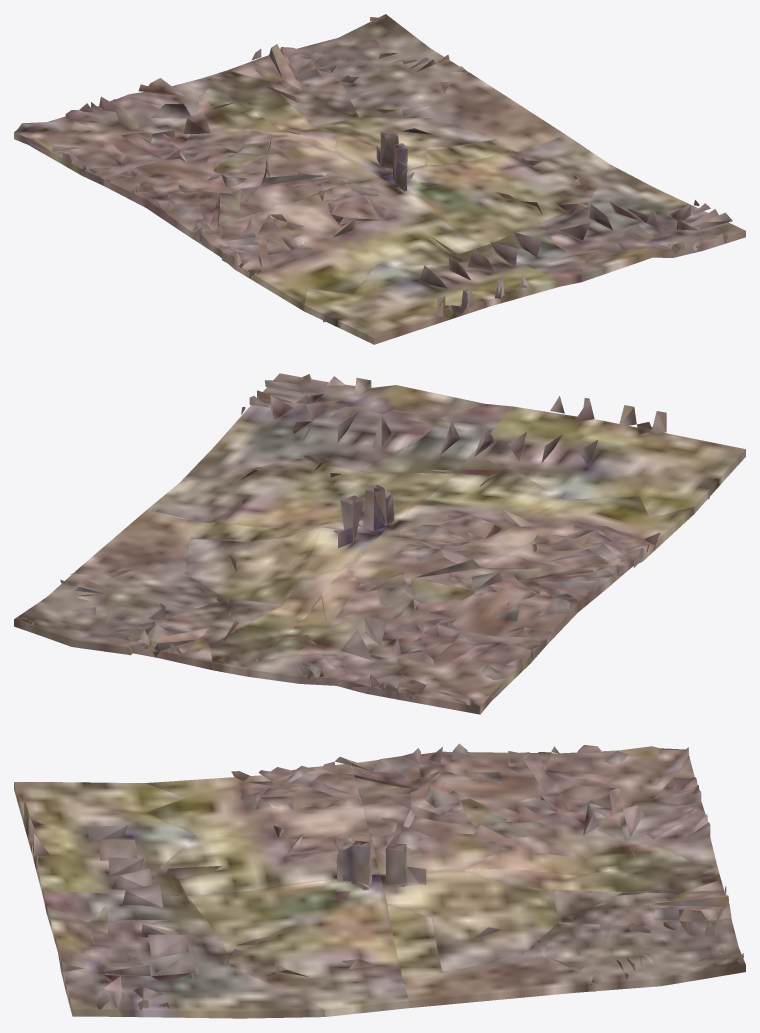
3 renders of one model, top to bottom at view 1: azimuth 30°, elevation 25°; view 2: azimuth 150°, elevation 25°; view 3: azimuth 270°, elevation 25°, orthographic. The views are drawn at different scales.
Visible parts, largest first — view 1: Mesh_0; view 2: Mesh_0; view 3: Mesh_0.
Part boxes in pixels (box(x1,y1,x2,y2)): Mesh_0: box(14, 14, 745, 344); Mesh_0: box(14, 373, 745, 714); Mesh_0: box(14, 743, 745, 1018).
Bounding box in the file's own units: 1064 × 134 × 1318.
1 material, 1 textured.
